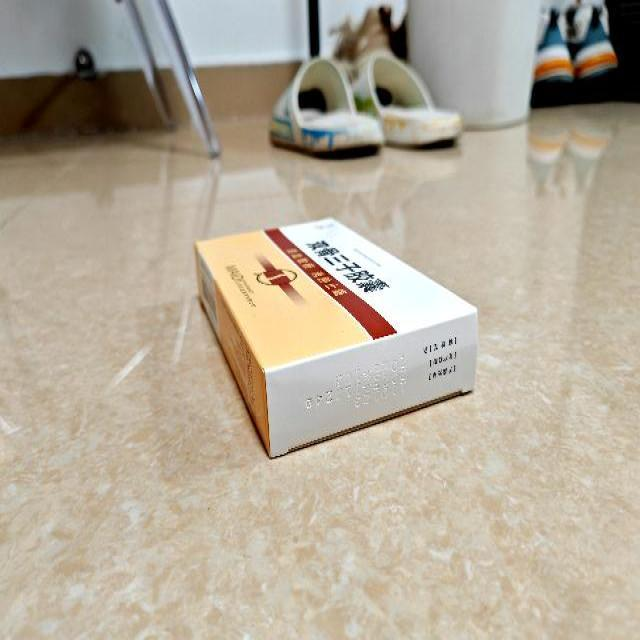box: (195, 216, 478, 459)
